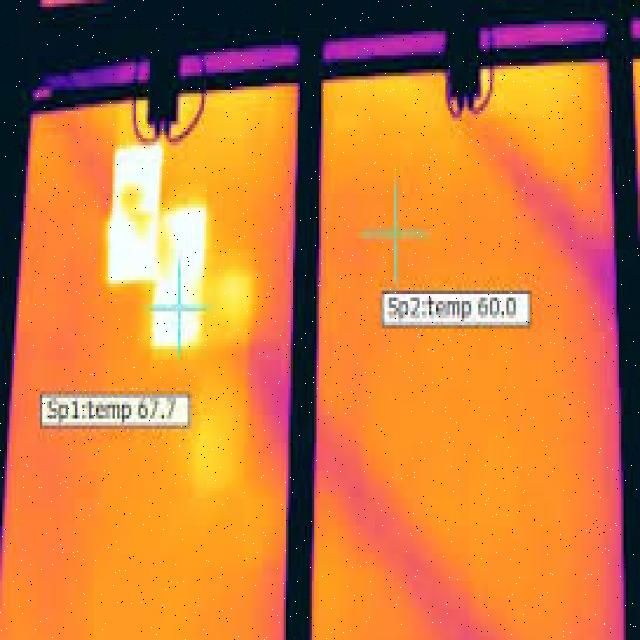Hotspot: (155, 201, 211, 353), (110, 138, 162, 284)
